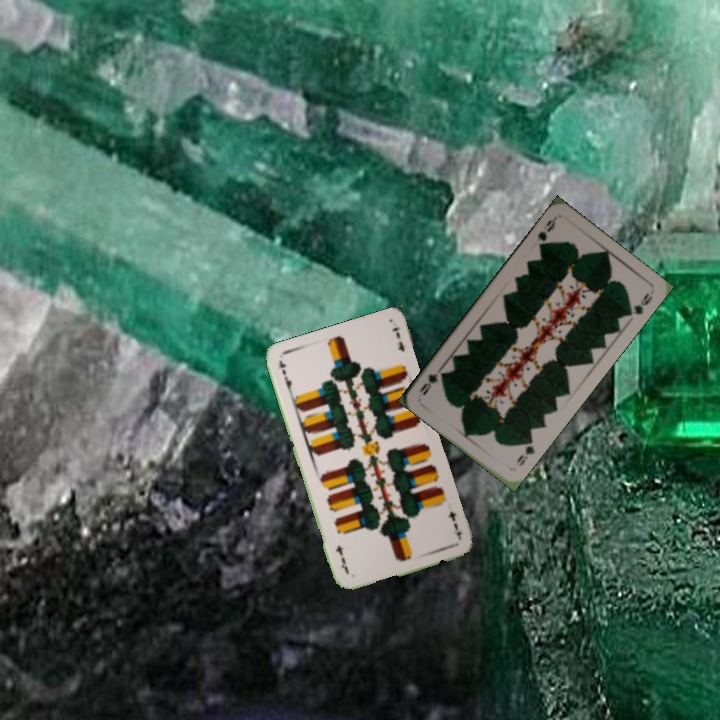E7: (275, 356, 295, 396), (444, 507, 465, 541)
G9: (533, 213, 559, 252), (512, 434, 537, 468)
